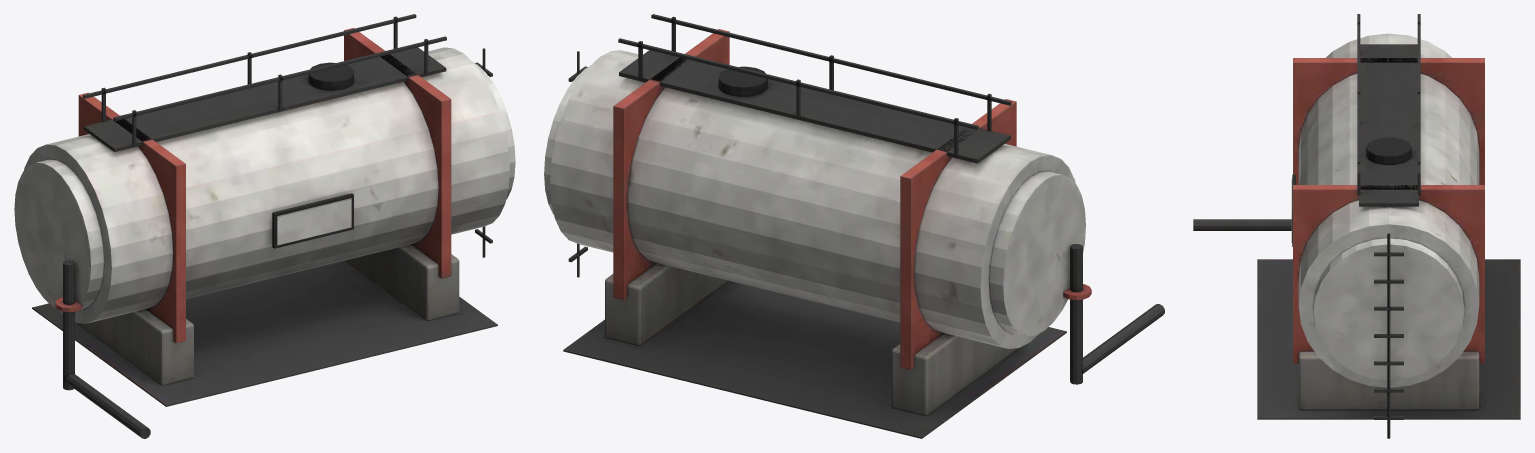
Rendered from d_fueltank.glb.
3 views of the same model, side by side, from view 1: azimuth 30°, elevation 25°; view 2: azimuth 150°, elevation 25°; view 3: azimuth 270°, elevation 25° (orthographic). The views are drawn at different scales.
Parts seen in each view (by area): view 1: BldF2_Shell; view 2: BldF2_Shell; view 3: BldF2_Shell.
Part boxes in pixels (x1,y1,x2,y2): BldF2_Shell: (14,14,515,438); BldF2_Shell: (544,14,1164,438); BldF2_Shell: (1193,14,1520,438).
Bounding box in the file's own units: 6.8 × 3.65 × 4.35.
Materials: 1 (1 with a texture image).
